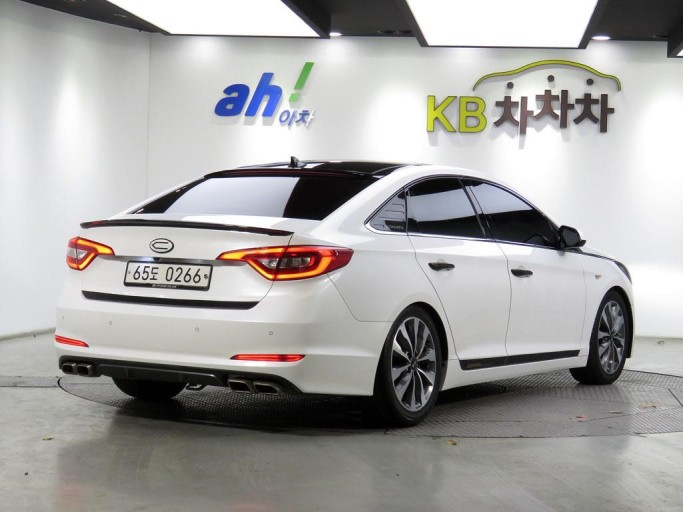car: (120, 258, 215, 293)
